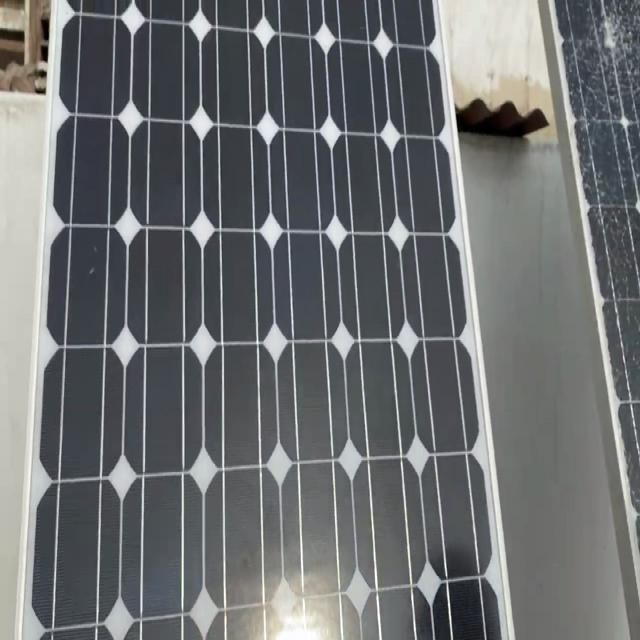Normal Solar Panel: (24, 1, 508, 640)
